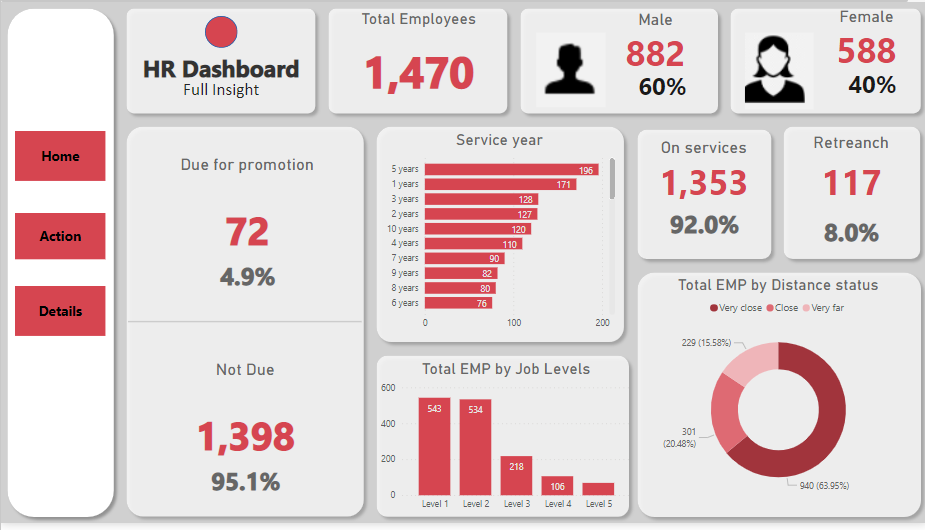

The page's visual inventory and layout, read from the dashboard file:
{"tool":"powerbi","page":{"name":"Home","canvas":[1280,720],"ordinal":0},"visuals":[{"type":"shape","box":[0,0,164.6,720.6],"z":0},{"type":"shape","box":[164.4,0,279.2,163],"z":1000},{"type":"shape","box":[443.6,0,265,163],"z":2000},{"type":"shape","box":[708.7,0,290.6,163],"z":3000},{"type":"shape","box":[999.2,0,280.6,163],"z":4000},{"type":"shape","box":[164.4,163,345.8,557],"z":5000},{"type":"shape","box":[510.2,163,360,316.1],"z":6000},{"type":"shape","box":[510.2,479.1,367.1,240.9],"z":7000},{"type":"shape","box":[870.2,167.2,202.7,197],"z":8000},{"type":"shape","box":[1072.9,163,206.9,201.3],"z":9000},{"type":"shape","box":[870.2,364.3,409.6,355.7],"z":10000},{"type":"textbox","box":[154.5,63.8,299.1,62.4],"z":11000},{"type":"textbox","box":[154.5,100.6,299.1,62.4],"z":12000},{"type":"shape","box":[282,19.8,45.4,43.9],"z":13000},{"type":"card","title":"Total Employees","fields":{"Values":["All Measure.Total EMP"]},"box":[426.6,11.3,300.5,138.9],"z":14000},{"type":"card","title":"Male","fields":{"Values":["All Measure.Male"]},"box":[844.7,11.3,120.5,89.3],"z":15000},{"type":"card","title":"Male","fields":{"Values":["All Measure.% Male"]},"box":[854.6,68,120.5,95],"z":16000},{"type":"card","title":"Male","fields":{"Values":["All Measure.% Female"]},"box":[1145.2,68,120.5,90.7],"z":17000},{"type":"card","title":"Female","fields":{"Values":["All Measure.Female"]},"box":[1136.9,7.2,120.5,89.3],"z":18000},{"type":"image","box":[1017.6,36.9,116.2,116.2],"z":19000},{"type":"image","box":[729.9,36.9,114.8,113.4],"z":20000},{"type":"card","title":"Male","fields":{"Values":["All Measure.% Due for promotion"]},"box":[180,344.4,323.1,68],"z":21000},{"type":"card","title":"Due for promotion","fields":{"Values":["All Measure.Due for promotion"]},"box":[187.1,211.2,307.6,177.2],"z":22000},{"type":"card","title":"Male","fields":{"Values":["All Measure.% Not due"]},"box":[177.2,628,323.1,68],"z":23000},{"type":"card","title":"Not Due ","fields":{"Values":["All Measure.Not due"]},"box":[184.3,494.7,307.6,177.2],"z":24000},{"type":"shape","box":[175.7,430.9,323.1,21.3],"z":25000},{"type":"barChart","title":" Service year","fields":{"Category":["HR Analytics Data.Service year"],"Y":["All Measure.Total EMP"]},"box":[524.4,178.6,330.2,283.5],"z":26000},{"type":"columnChart","fields":{"Category":["HR Analytics Data.Job Levels"],"Y":["All Measure.Total EMP"]},"box":[520.2,494.6,357.2,216.9],"z":27000},{"type":"card","title":"Male","fields":{"Values":["All Measure.% on services"]},"box":[885.8,269.3,172.9,75.1],"z":28000},{"type":"card","title":"On services","fields":{"Values":["All Measure.on services"]},"box":[840.5,188.5,262.2,92.1],"z":29000},{"type":"card","title":"Retreanch","fields":{"Values":["All Measure.Will be retreanched"]},"box":[1081.4,181.4,188.5,106.3],"z":30000},{"type":"card","title":"Male","fields":{"Values":["All Measure.% will be retreached"]},"box":[1089.9,280.6,172.9,75.1],"z":31000},{"type":"donutChart","fields":{"Category":["HR Analytics Data.Distance status"],"Y":["All Measure.Total EMP"]},"box":[885.8,378.4,377,317.5],"z":32000},{"type":"actionButton","box":[19.8,178.6,124.7,69.4],"z":33000},{"type":"actionButton","box":[19.8,292,124.7,63.8],"z":34000},{"type":"actionButton","box":[19.8,392.6,124.7,69.4],"z":35000}]}

Visuals, with their boxes in screenshot pixels (x1, y1, x2, y2), scaled from the page's 1280x720 canvas onto the 925x530 screenshot:
shape: l=0, t=0, r=119, b=529
shape: l=119, t=0, r=321, b=120
shape: l=321, t=0, r=512, b=120
shape: l=512, t=0, r=722, b=120
shape: l=722, t=0, r=924, b=120
shape: l=119, t=120, r=369, b=529
shape: l=369, t=120, r=629, b=353
shape: l=369, t=353, r=634, b=529
shape: l=629, t=123, r=775, b=268
shape: l=775, t=120, r=924, b=268
shape: l=629, t=268, r=924, b=529
textbox: l=112, t=47, r=328, b=93
textbox: l=112, t=74, r=328, b=120
shape: l=204, t=15, r=237, b=47
"Total Employees" card: l=308, t=8, r=525, b=111
"Male" card: l=610, t=8, r=698, b=74
"Male" card: l=618, t=50, r=705, b=120
"Male" card: l=828, t=50, r=915, b=117
"Female" card: l=822, t=5, r=909, b=71
image: l=735, t=27, r=819, b=113
image: l=527, t=27, r=610, b=111
"Male" card: l=130, t=254, r=364, b=304
"Due for promotion" card: l=135, t=155, r=357, b=286
"Male" card: l=128, t=462, r=362, b=512
"Not Due " card: l=133, t=364, r=355, b=495
shape: l=127, t=317, r=360, b=333
" Service year" barChart: l=379, t=131, r=618, b=340
columnChart - HR Analytics Data.Job Levels x All Measure.Total EMP: l=376, t=364, r=634, b=524
"Male" card: l=640, t=198, r=765, b=254
"On services" card: l=607, t=139, r=797, b=207
"Retreanch" card: l=781, t=134, r=918, b=212
"Male" card: l=788, t=207, r=913, b=262
donutChart - HR Analytics Data.Distance status x All Measure.Total EMP: l=640, t=279, r=913, b=512
actionButton: l=14, t=131, r=104, b=183
actionButton: l=14, t=215, r=104, b=262
actionButton: l=14, t=289, r=104, b=340
